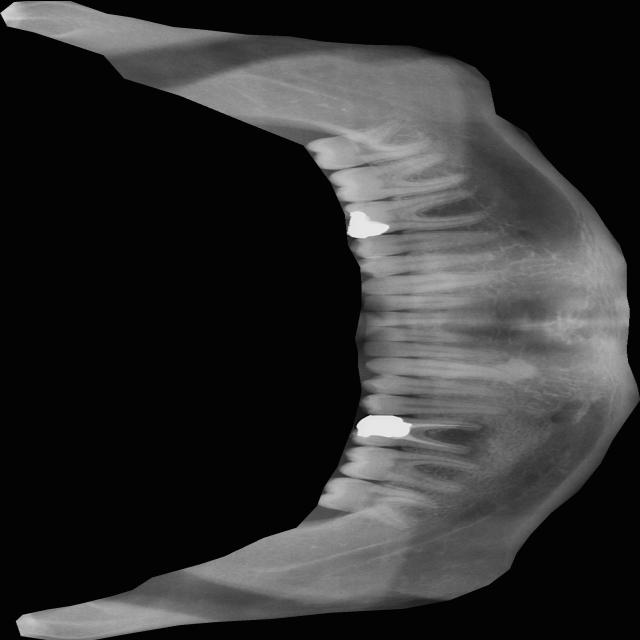mandibula: (0, 0, 640, 640)
